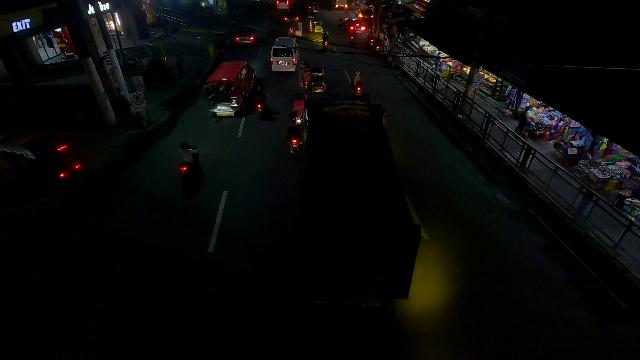car: (344, 17, 368, 39), (230, 26, 255, 46), (282, 12, 299, 25), (275, 0, 290, 10)
jeepney: (205, 60, 255, 116)
motorcycle: (179, 141, 203, 194), (287, 120, 304, 160), (374, 34, 383, 55), (366, 27, 375, 47)
truck: (330, 1, 348, 11)
van: (270, 36, 299, 70)
